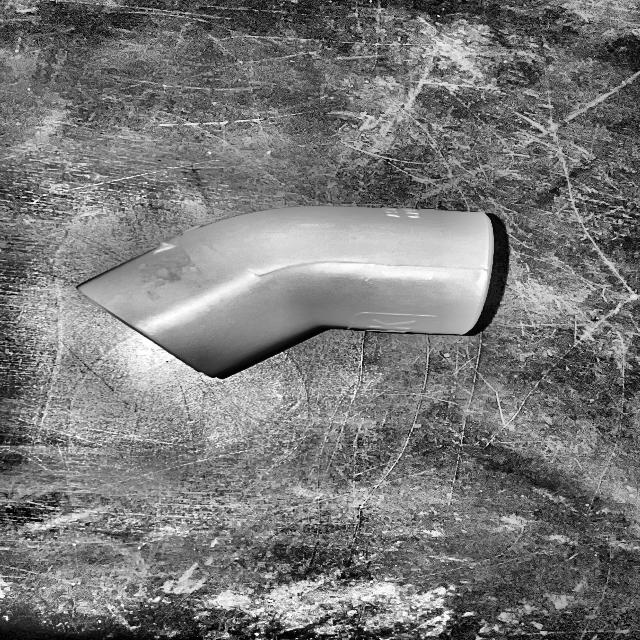ELBOW45: (77, 206, 510, 381)
